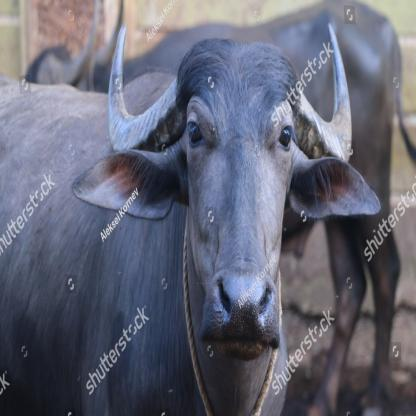buffalo: (0, 37, 354, 416)
